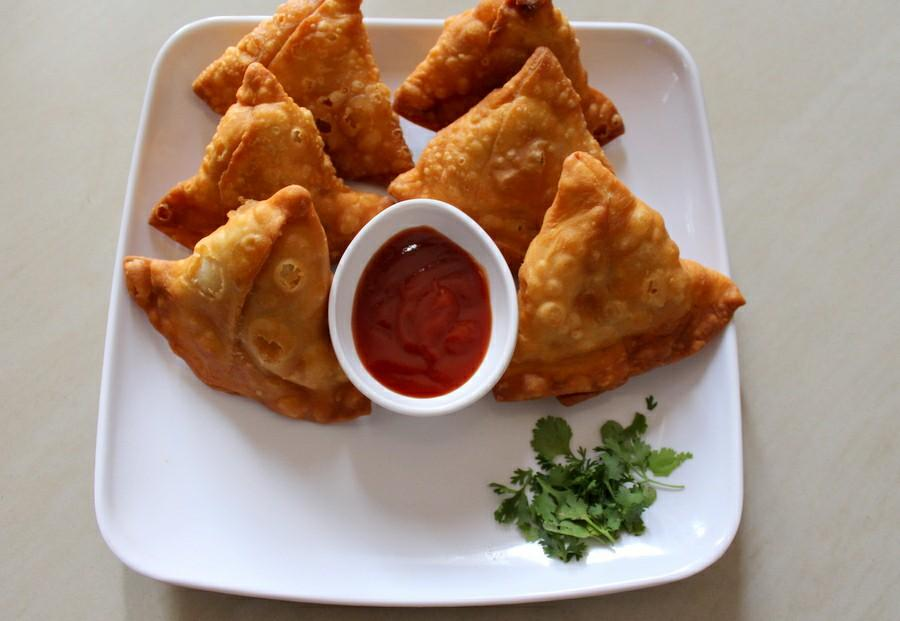Samosa: (480, 152, 751, 399), (122, 183, 376, 427), (389, 44, 620, 246), (147, 61, 392, 246), (187, 0, 411, 170), (390, 0, 636, 138)
